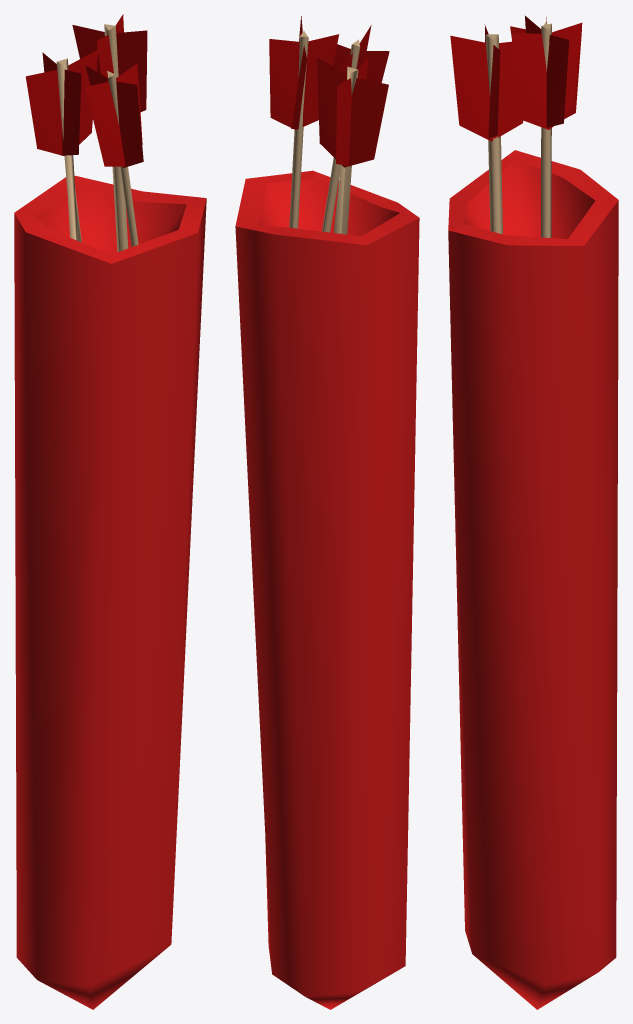
The model's file is PT_Quiver_01_a.glb.
The picture shows the model from 3 angles, left to right: view 1: azimuth 30°, elevation 25°; view 2: azimuth 150°, elevation 25°; view 3: azimuth 270°, elevation 25°; orthographic projection. The views are drawn at different scales.
Visible parts, largest first — view 1: PT_Quiver_01_a; view 2: PT_Quiver_01_a; view 3: PT_Quiver_01_a.
Part boxes in pixels (bbox=[...]): PT_Quiver_01_a: bbox=[14, 14, 206, 1009]; PT_Quiver_01_a: bbox=[235, 16, 419, 1009]; PT_Quiver_01_a: bbox=[448, 16, 618, 1009].
Size of the model in its own units: 0.1228 by 0.6463 by 0.1.
Materials: 1 (1 with a texture image).
